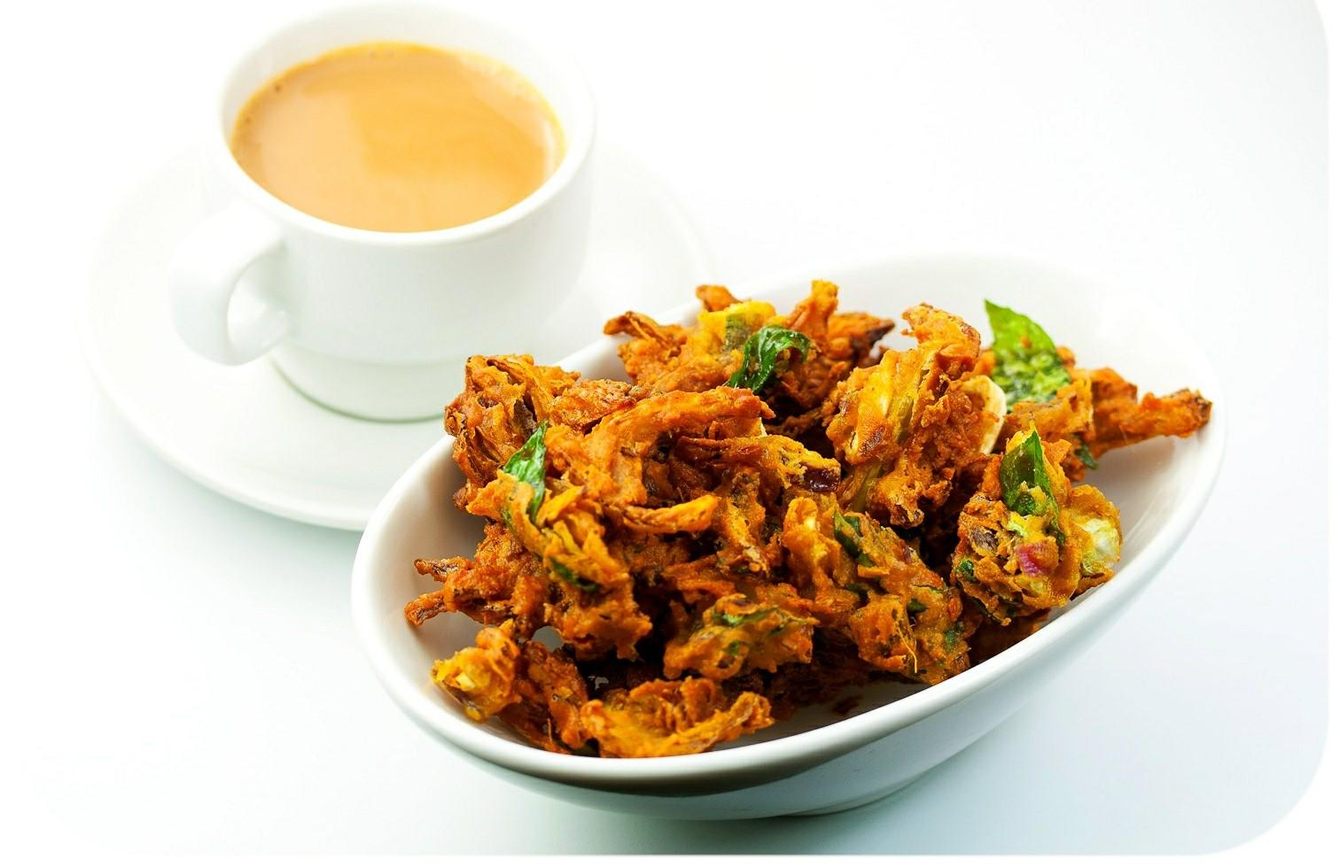Chai: (231, 38, 563, 233)
OnionPakoda: (409, 273, 1212, 750)
